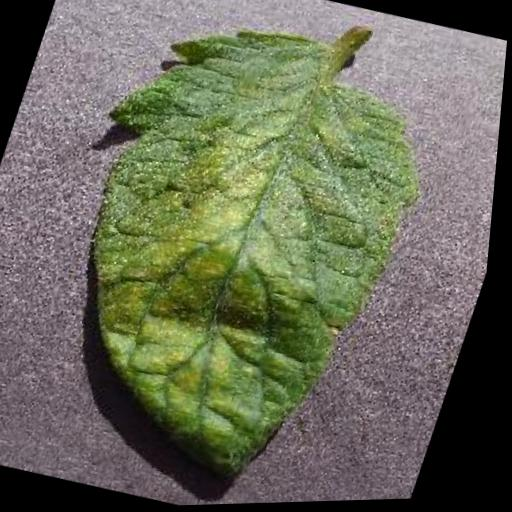Spider Mites: (6, 0, 462, 503)
